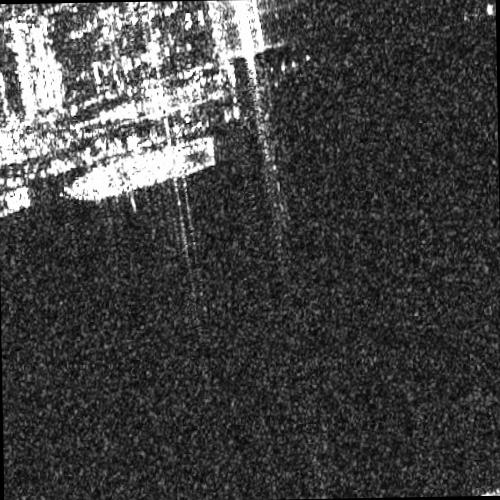ship: (59, 135, 219, 204)
